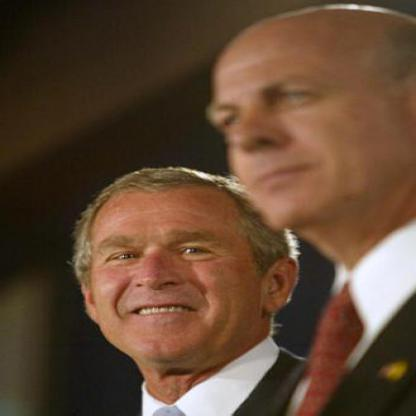face: (195, 13, 415, 237), (79, 171, 269, 368)
